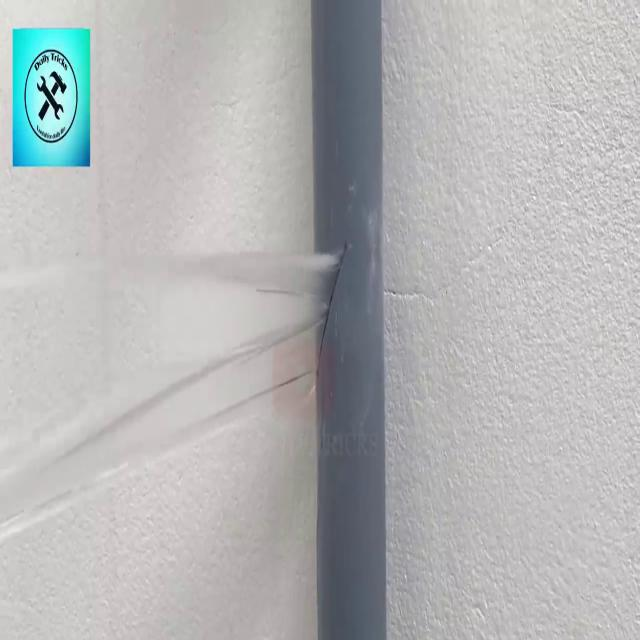leak: (0, 240, 349, 554)
